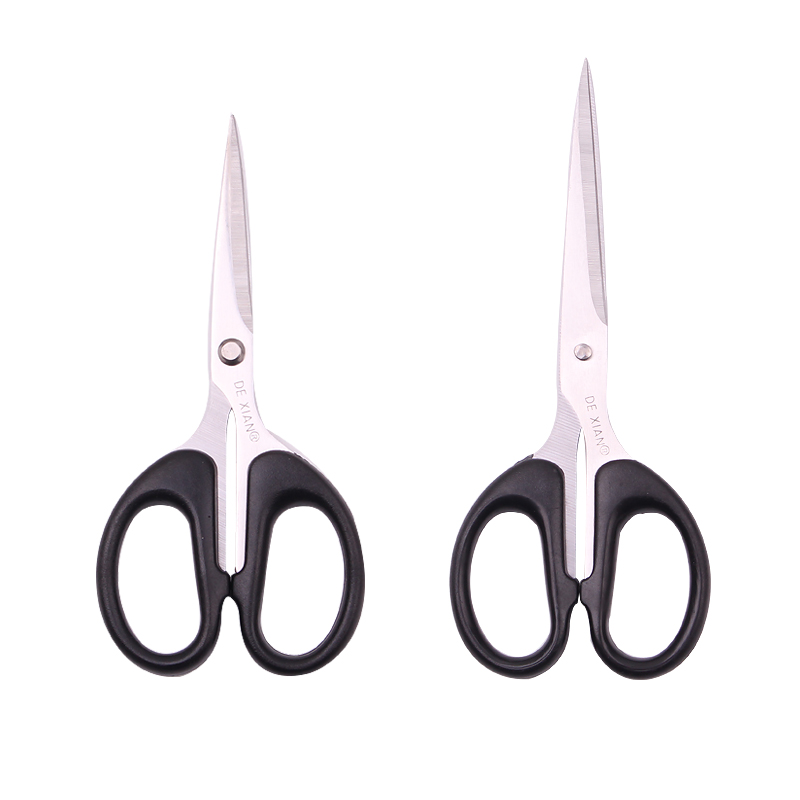scissors: (447, 56, 715, 683), (91, 104, 370, 687)
